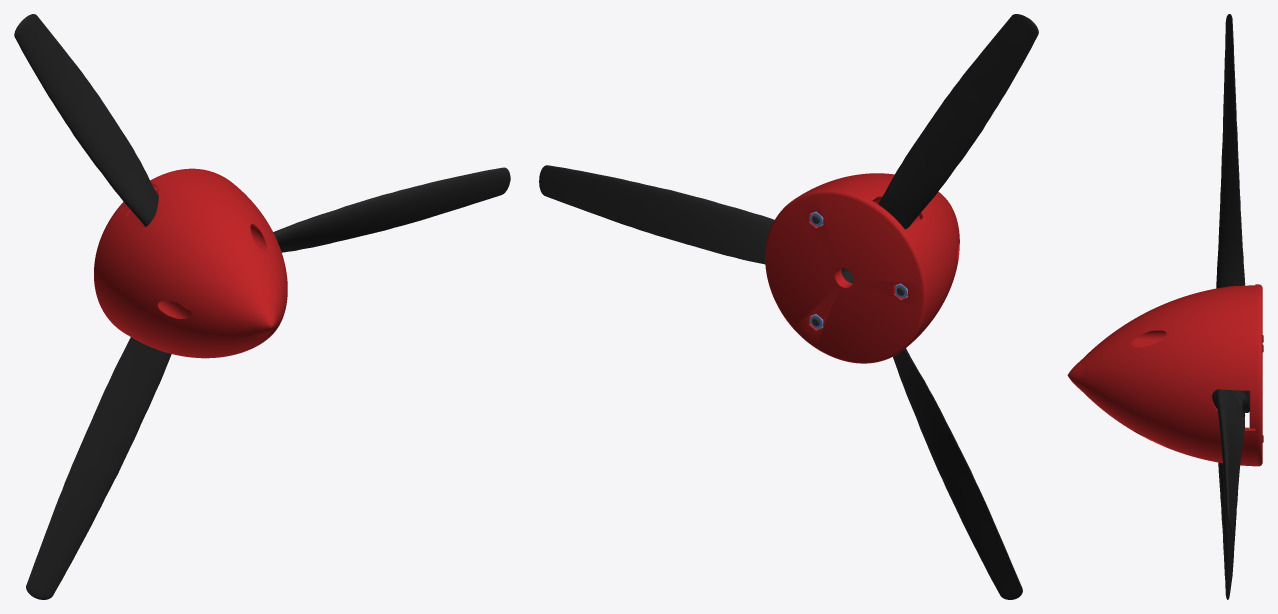
Rendered from conjunto_B_DB_3B_2-3_4_MA_3B_11x7.glb.
3 renders of one model, left to right at view 1: azimuth 30°, elevation 25°; view 2: azimuth 150°, elevation 25°; view 3: azimuth 270°, elevation 25°, orthographic. The views are drawn at different scales.
Parts seen in each view (by area): view 1: PROP_MA_3B_11x7, SPIN_DB_3B_2-3_4_Cono, SPIN_DB_3B_2-3_4_Placa; view 2: PROP_MA_3B_11x7, SPIN_DB_3B_2-3_4_Placa, SPIN_DB_3B_2-3_4_Cono; view 3: SPIN_DB_3B_2-3_4_Cono, PROP_MA_3B_11x7, SPIN_DB_3B_2-3_4_Placa.
Boxes of the visible parts, left/top/right/bottom form: PROP_MA_3B_11x7: left=14, top=14, right=510, bottom=599; SPIN_DB_3B_2-3_4_Cono: left=96, top=170, right=287, bottom=358; SPIN_DB_3B_2-3_4_Placa: left=94, top=168, right=227, bottom=329; PROP_MA_3B_11x7: left=539, top=14, right=1038, bottom=599; SPIN_DB_3B_2-3_4_Placa: left=765, top=188, right=928, bottom=363; SPIN_DB_3B_2-3_4_Cono: left=800, top=173, right=959, bottom=345; SPIN_DB_3B_2-3_4_Cono: left=1067, top=285, right=1255, bottom=466; PROP_MA_3B_11x7: left=1212, top=14, right=1249, bottom=599; SPIN_DB_3B_2-3_4_Placa: left=1249, top=284, right=1262, bottom=466.
Bounding box in the file's own units: 0.2164 × 0.2445 × 0.0754.
